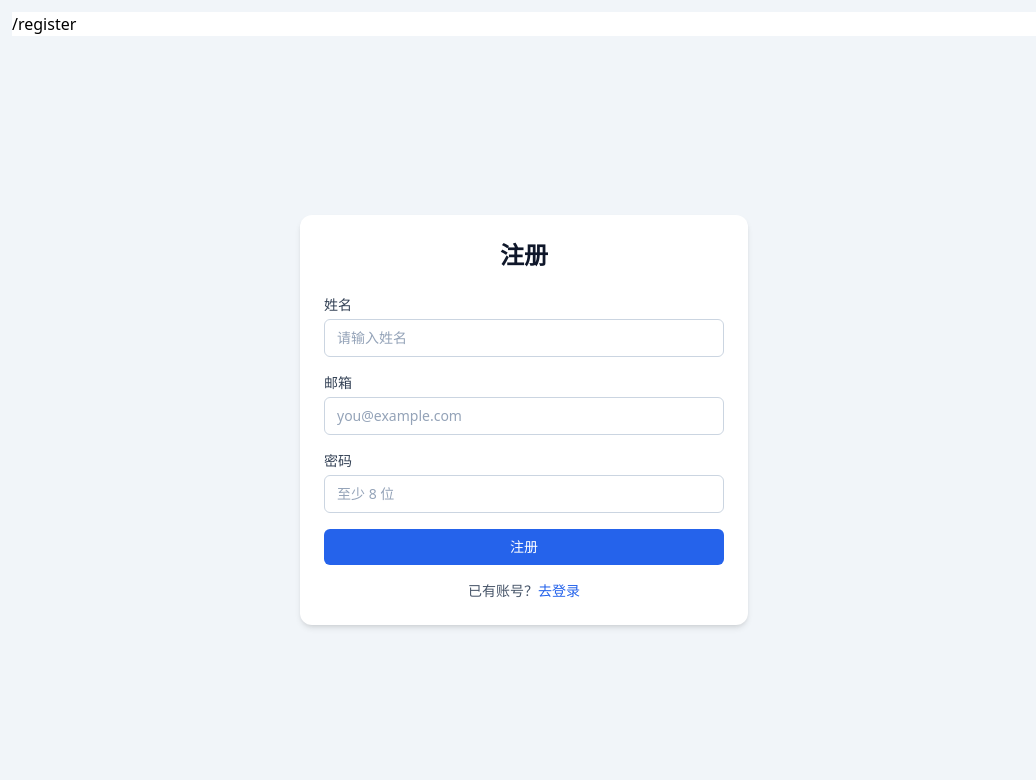
RegisterPage › 邮箱已注册时显示后端冲突错误
The image size is (1036, 780).
Type "重复用户" into the field labelled "姓名" at (524, 338), box [324,319,724,357]
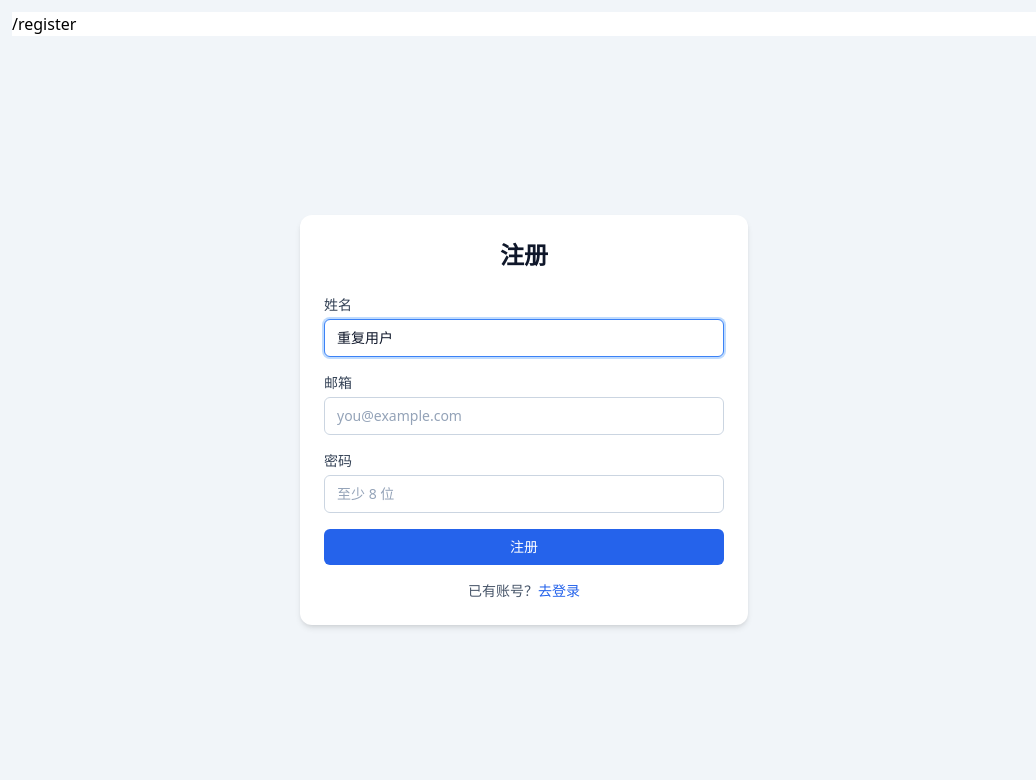
Type "exists@example.com" into the field labelled "邮箱" at (524, 416), box [324,397,724,435]
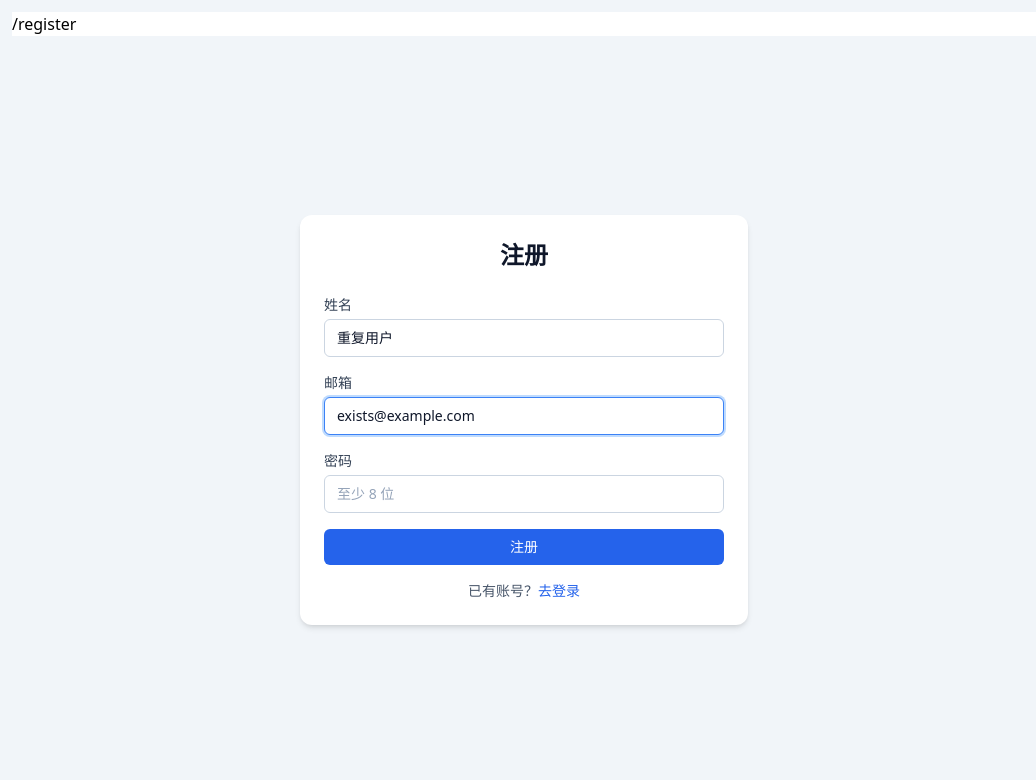
Type "password123" into the password field labelled "密码" at (524, 494), box [324,475,724,513]
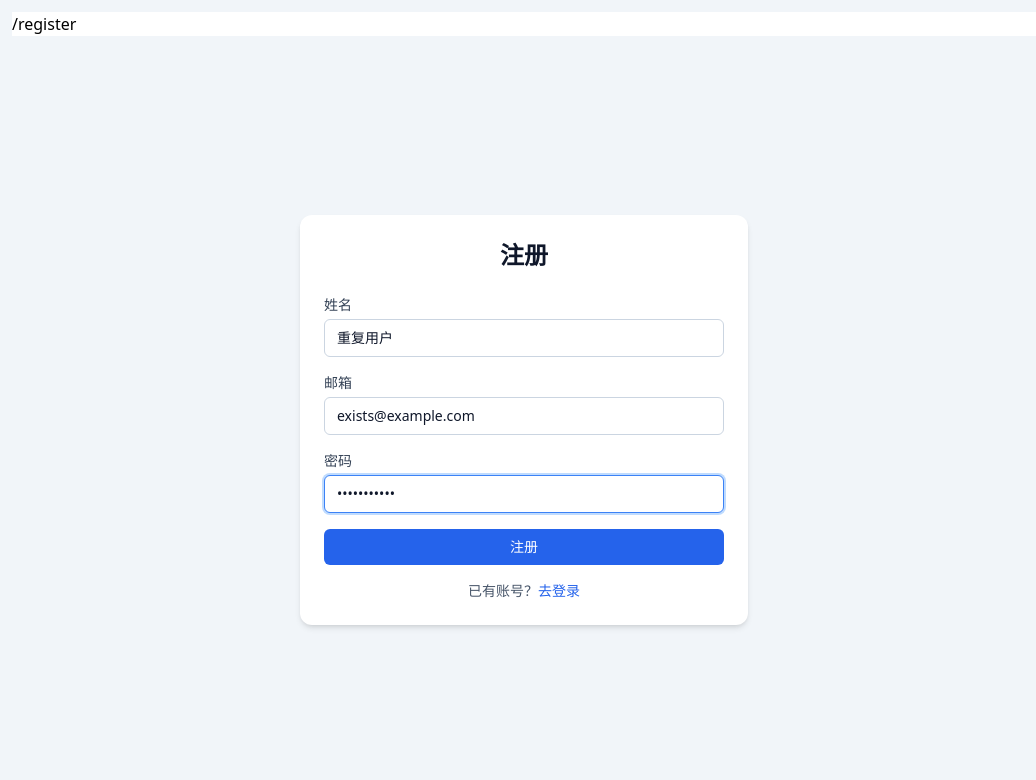
Click the button "注册" at (524, 547), box [324,529,724,565]
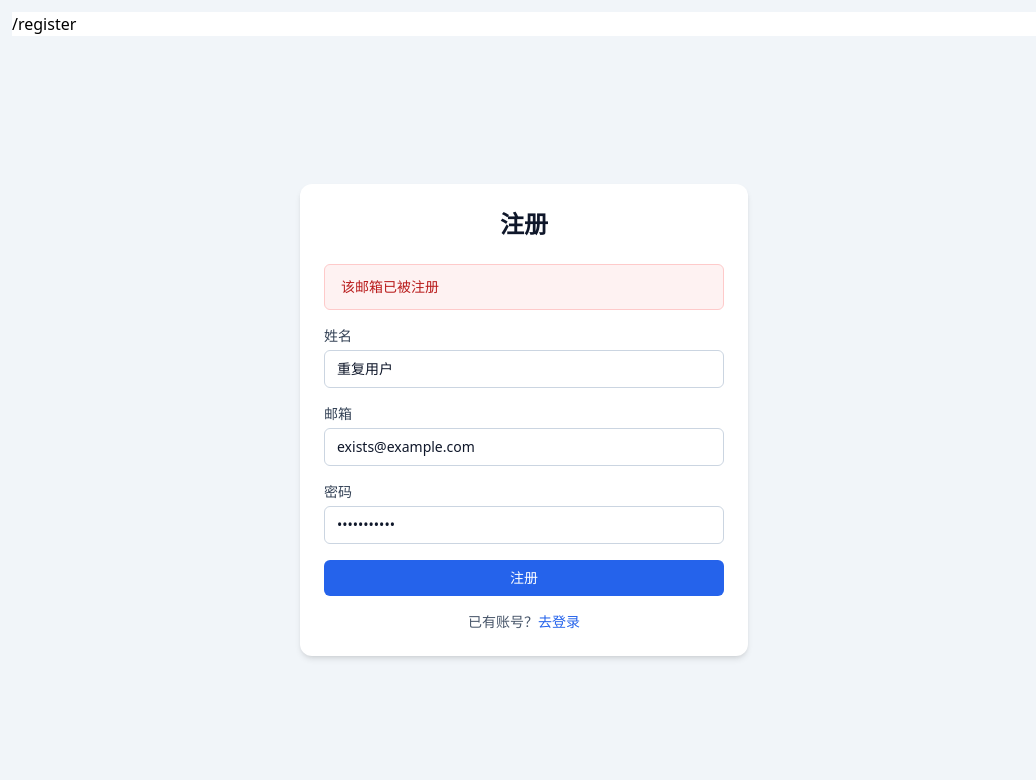
Check: the text with test id "location" reads "/register", box [12,13,76,35]
Check: the text "该邮箱已被注册" is shown, box [341,277,439,296]
